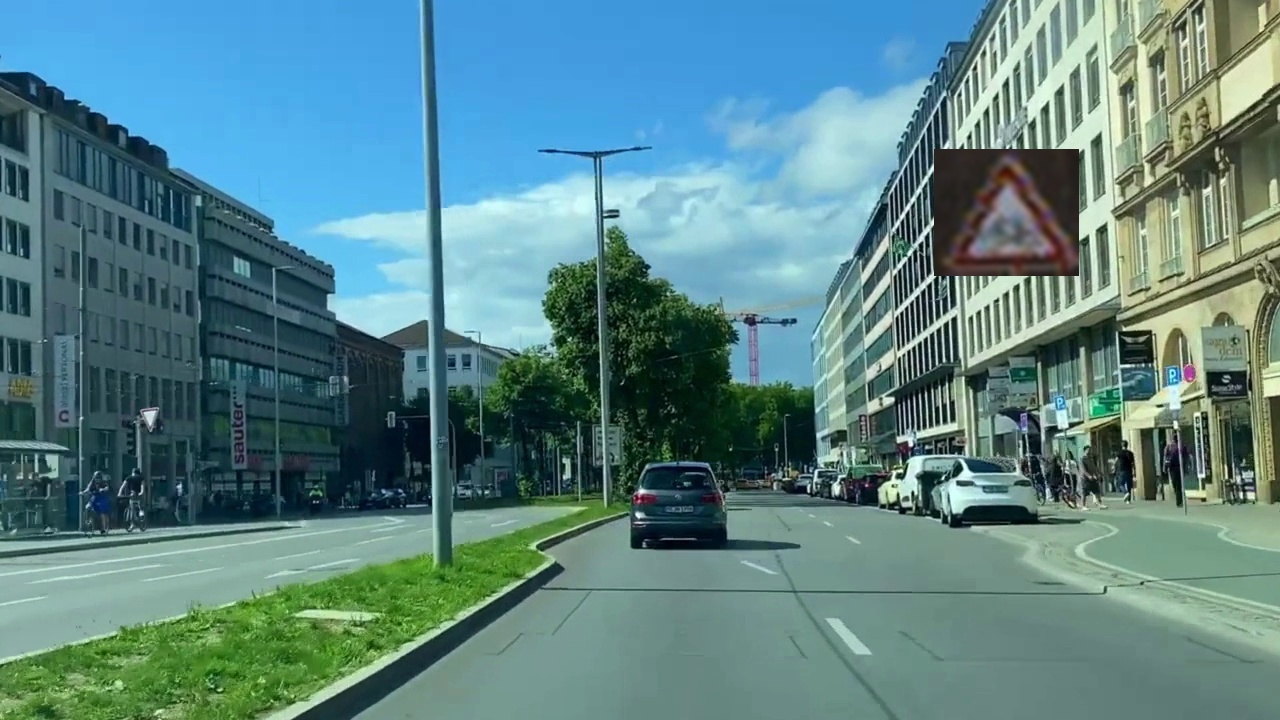Bicycles: (934, 149, 1079, 276)
